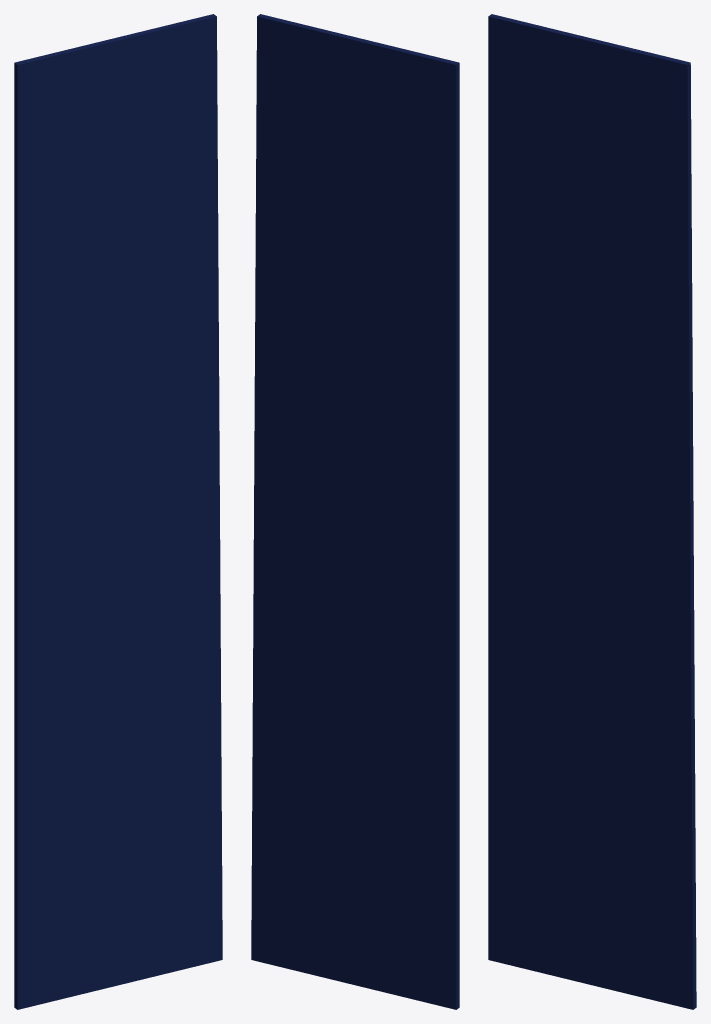
3 views of the same model, side by side, from view 1: azimuth 30°, elevation 25°; view 2: azimuth 150°, elevation 25°; view 3: azimuth 330°, elevation 25° (orthographic).
Visible parts, largest first — view 1: Cube.048; view 2: Cube.048; view 3: Cube.048.
Part boxes in pixels (x1,y1,x2,y2): Cube.048: (14, 14, 222, 1009); Cube.048: (251, 14, 459, 1009); Cube.048: (488, 14, 696, 1009).
Bounding box in the file's own units: 7.09 × 31.21 × 0.2.
